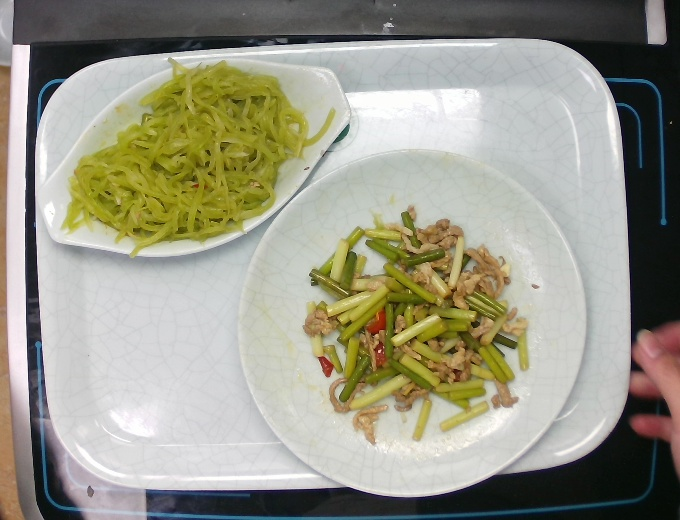JYsf-Da_Yuan_Pan: (235, 147, 588, 499)
JYsf-Yu_Pan: (35, 55, 353, 260)
